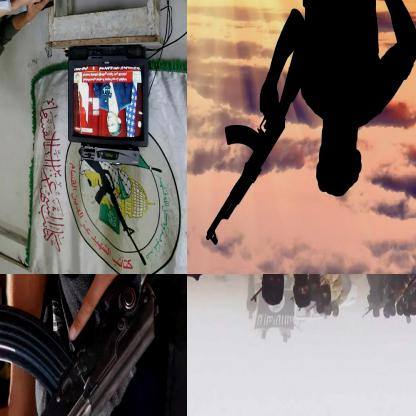rifle: (0, 274, 159, 415), (200, 67, 301, 248), (3, 0, 78, 12)
